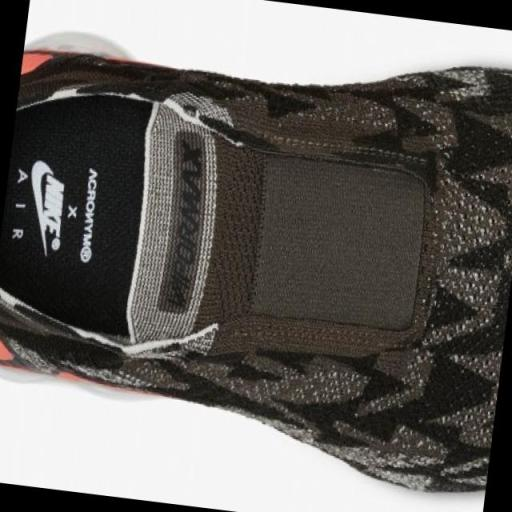Nike: (24, 154, 52, 239), (38, 174, 68, 240)
